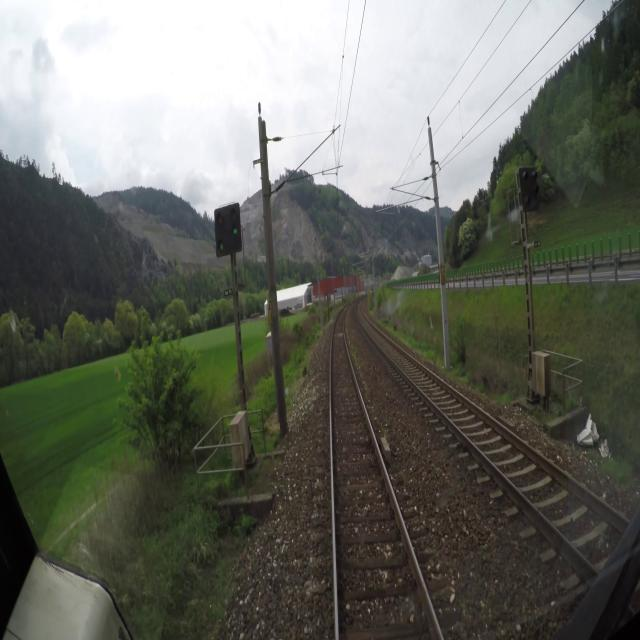rail-track: (356, 301, 622, 549), (332, 308, 439, 639)
